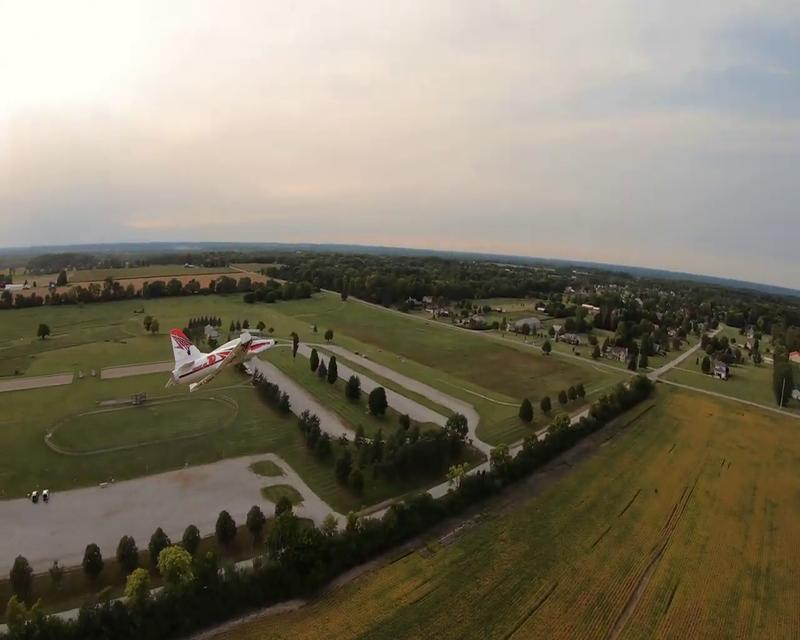UAV: (163, 326, 278, 392)
